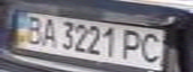1: (100, 25, 121, 58)
2: (84, 22, 106, 56), (72, 20, 87, 54)
3: (54, 19, 75, 52)
A: (36, 16, 60, 48)
B: (18, 14, 48, 45)
C: (136, 30, 166, 64)
P: (118, 28, 148, 61)
